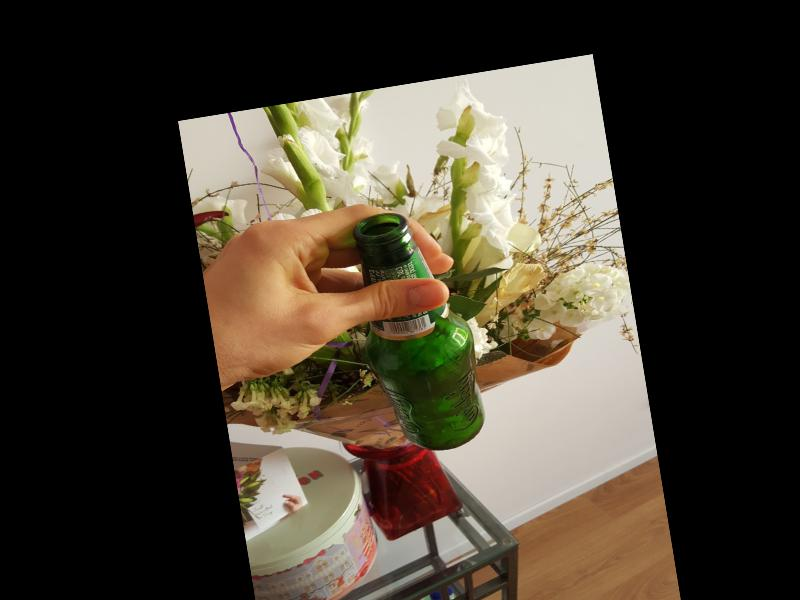Beer: (345, 204, 491, 460)
